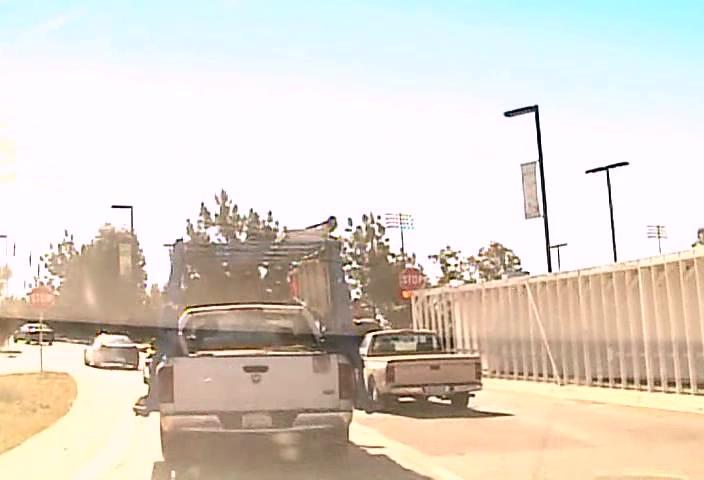stop: (399, 266, 425, 293)
